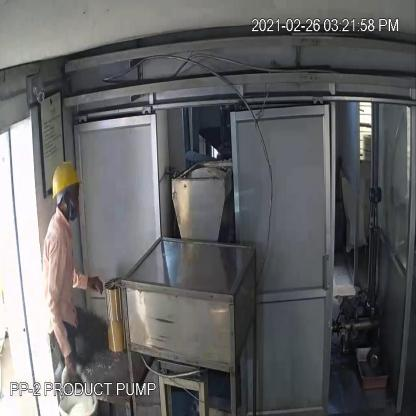helmet: (50, 154, 83, 200)
